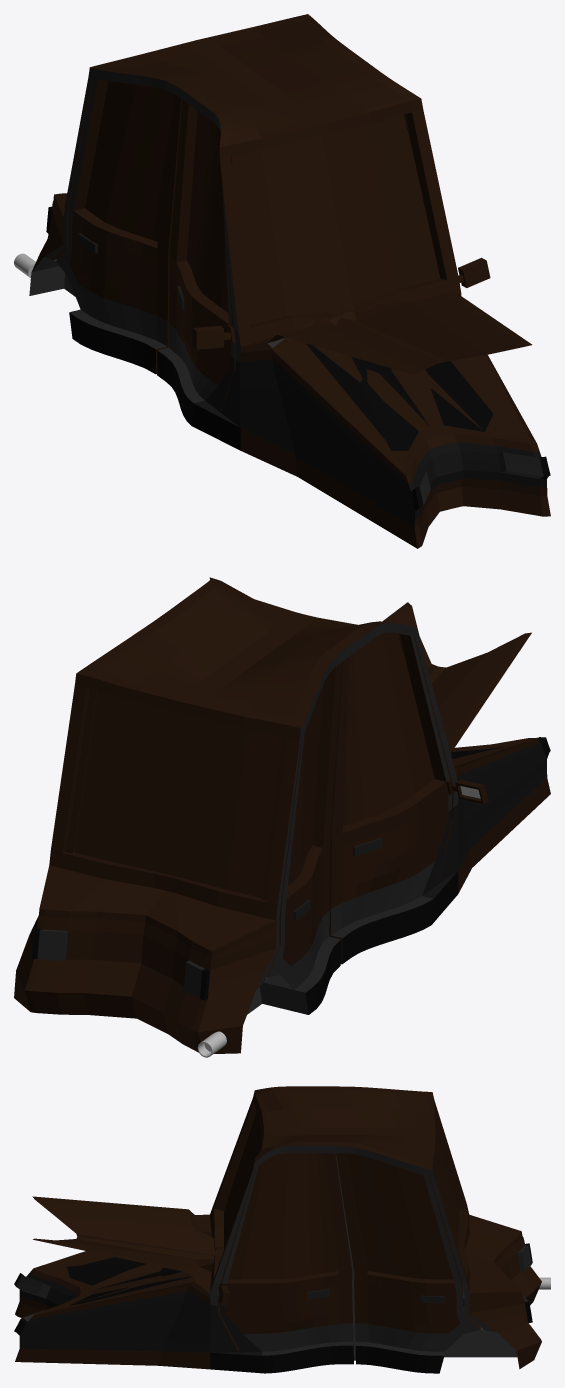
3 views of the same model, one above another, from view 1: azimuth 30°, elevation 25°; view 2: azimuth 150°, elevation 25°; view 3: azimuth 270°, elevation 25° (orthographic). The views are drawn at different scales.
Parts seen in each view (by area): view 1: BODY33-B; view 2: BODY33-B; view 3: BODY33-B.
Boxes of the visible parts, left/top/right/bottom form: BODY33-B: left=29, top=14, right=550, bottom=548; BODY33-B: left=14, top=577, right=550, bottom=1053; BODY33-B: left=14, top=1086, right=541, bottom=1373.
Size of the model in its own units: 113 by 111 by 244.
